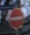No entry: (6, 6, 25, 30)
